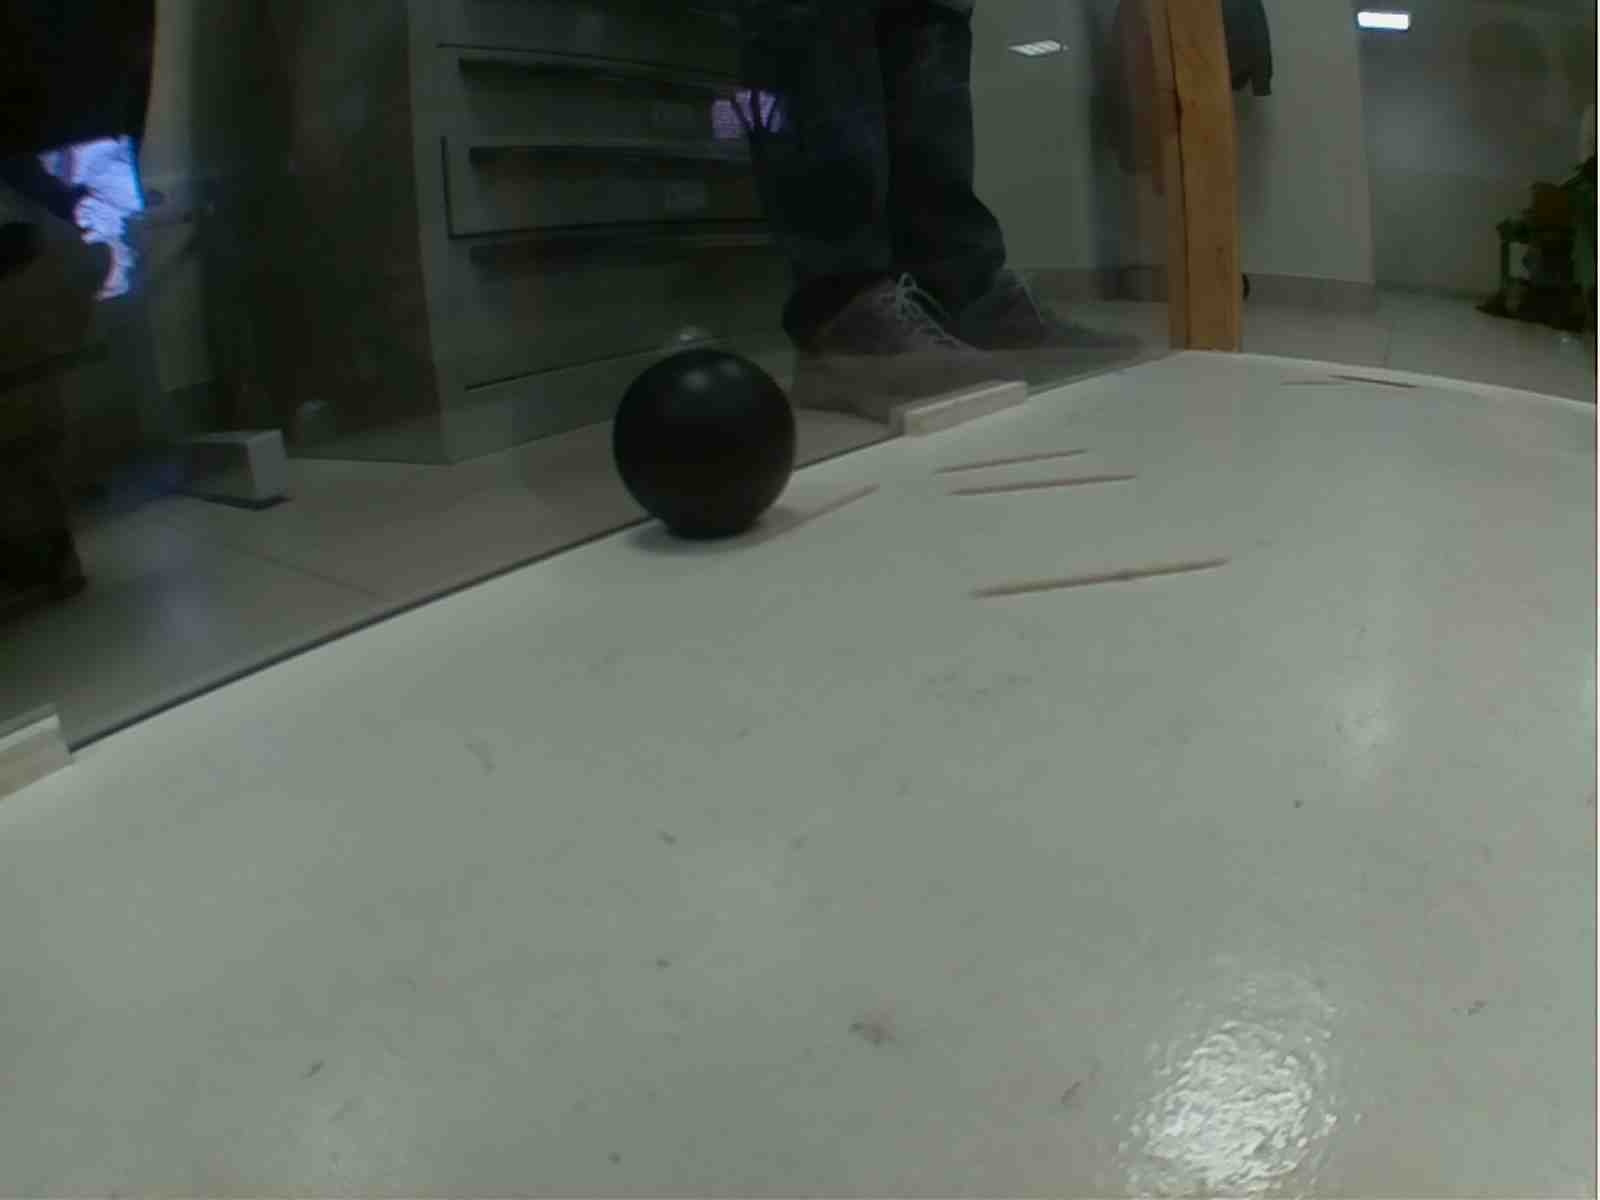nera: (609, 345, 800, 545)
